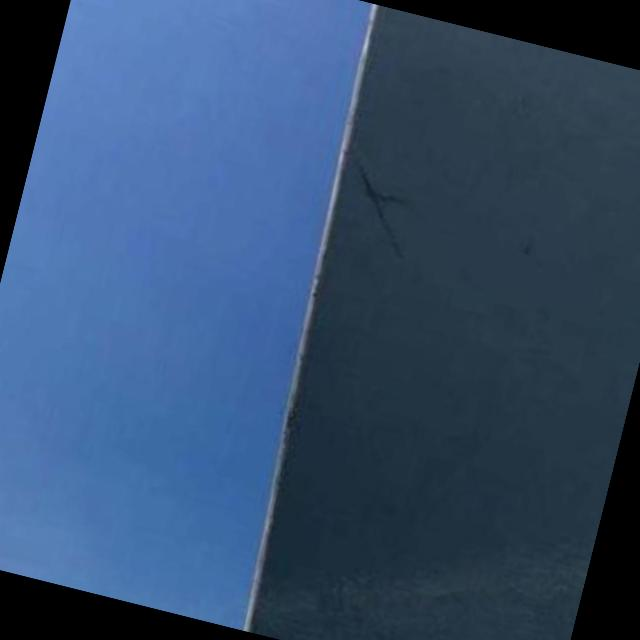crack: (329, 154, 418, 253)
